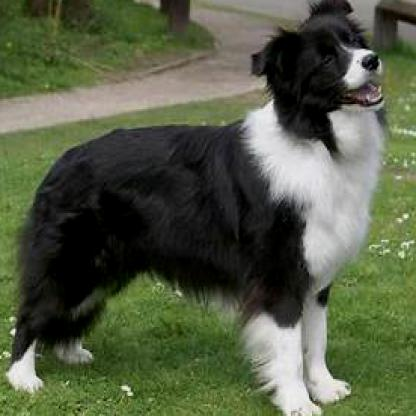dog: (7, 0, 391, 415)
